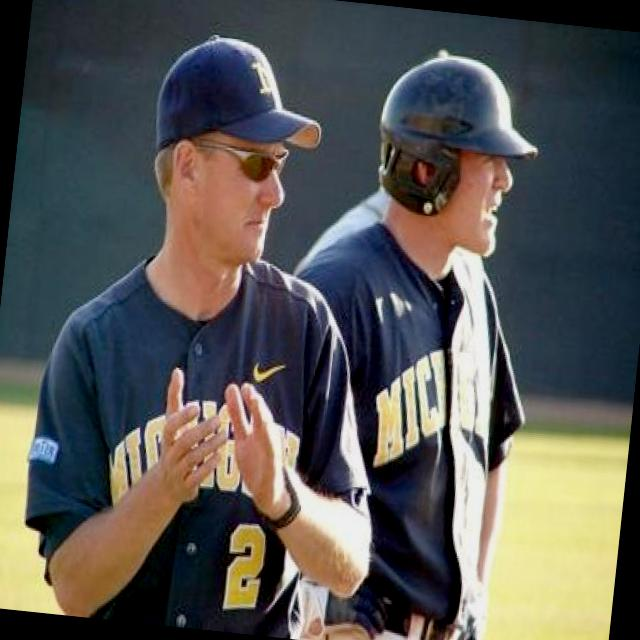no_vest: (26, 235, 403, 640), (337, 194, 544, 612)
